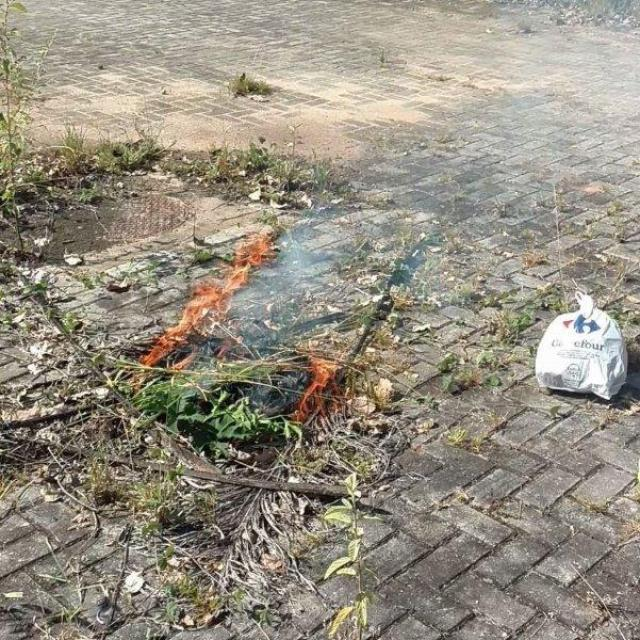Fire: (140, 234, 272, 372), (299, 350, 330, 413)
Smoke: (267, 225, 343, 339)
